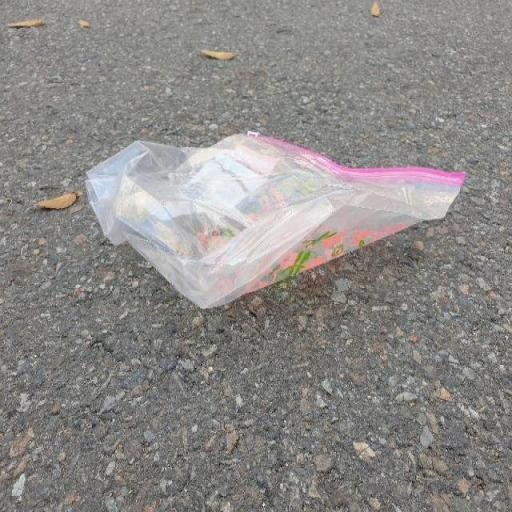plastic-bag: (84, 129, 464, 313)
